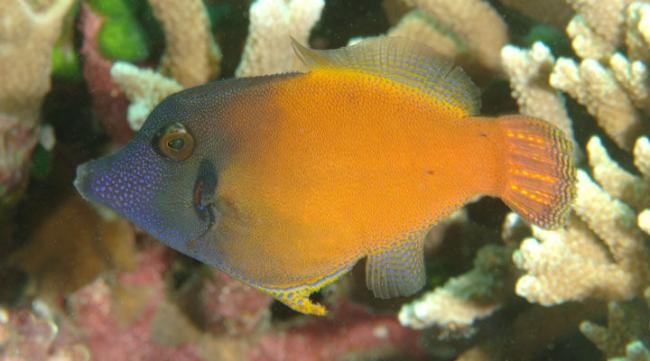fish: (72, 34, 581, 317)
